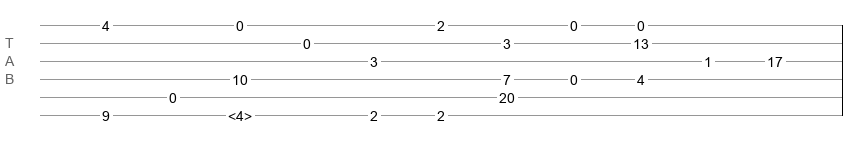0: (169, 90, 177, 100), (236, 18, 244, 28), (303, 36, 311, 46), (570, 18, 578, 28), (570, 72, 578, 82), (637, 18, 645, 28)
1: (704, 54, 712, 64)
10: (232, 72, 248, 82)
13: (633, 36, 649, 46)
17: (767, 54, 783, 64)
2: (370, 108, 378, 118), (437, 108, 445, 118), (437, 18, 445, 28)
20: (499, 90, 515, 100)
3: (370, 54, 378, 64), (503, 36, 511, 46)
4: (102, 18, 110, 28), (637, 72, 645, 82)
7: (503, 72, 511, 82)
9: (102, 108, 110, 118)
harmonic: (228, 108, 252, 118)
